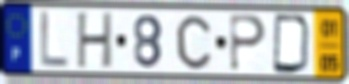8: (132, 13, 165, 71)
C: (174, 13, 213, 71)
D: (271, 12, 313, 77)
H: (75, 10, 115, 71)
L: (38, 9, 70, 71)
P: (228, 13, 268, 74)
